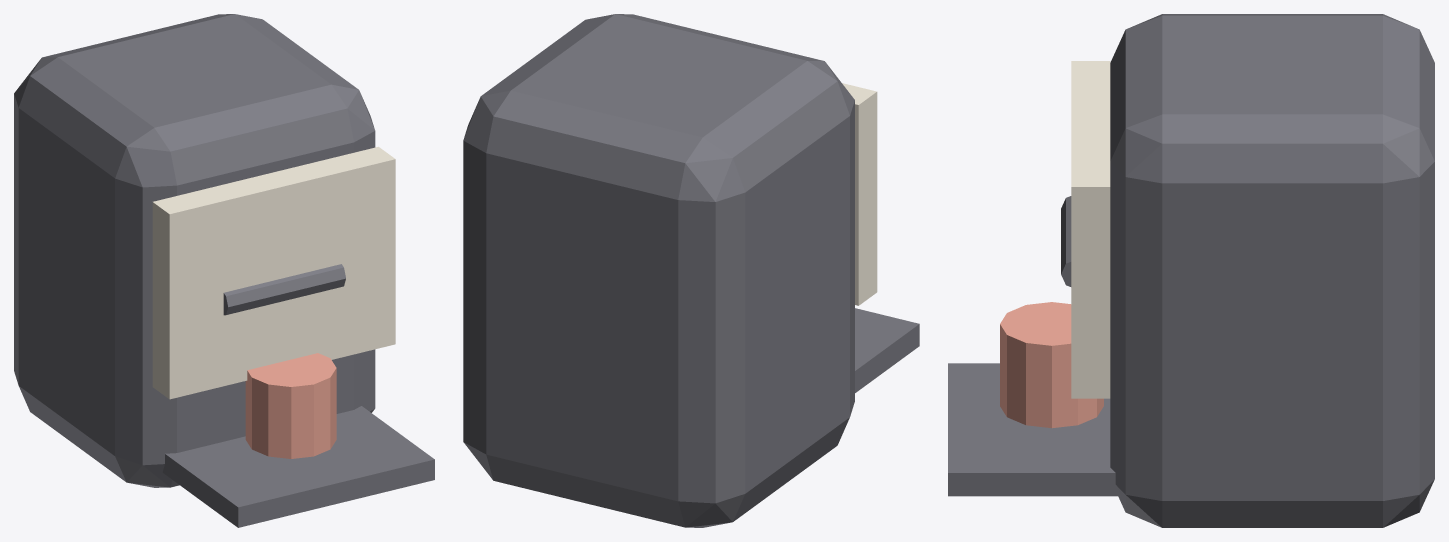
The model's file is cozy-home-interiors-coffee-machine-0e4c75b6.glb.
3 renders of one model, left to right at view 1: azimuth 30°, elevation 25°; view 2: azimuth 150°, elevation 25°; view 3: azimuth 270°, elevation 25°, orthographic. The views are drawn at different scales.
Visible parts, largest first — view 1: coffee-machine; view 2: coffee-machine; view 3: coffee-machine.
Part boxes in pixels (<box>): coffee-machine: <box>14,14,434,527</box>; coffee-machine: <box>463,14,919,527</box>; coffee-machine: <box>948,14,1434,527</box>.
Bounding box in the file's own units: 0.26 × 0.35 × 0.375.
